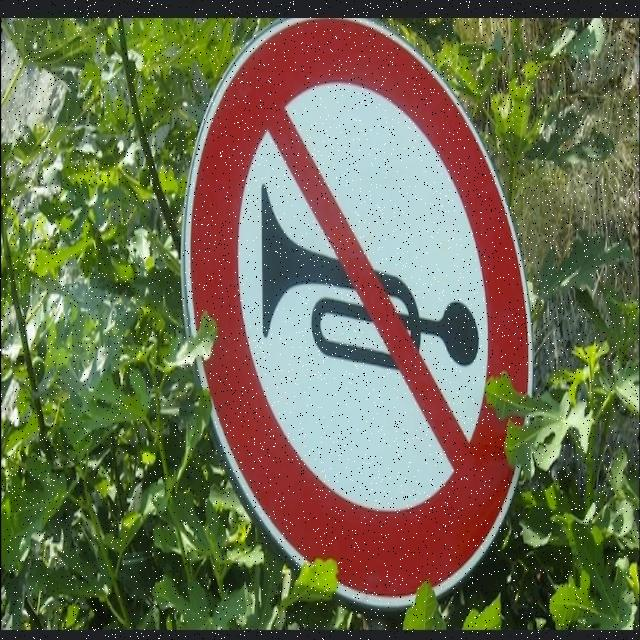No_Horn: (182, 16, 534, 592)
